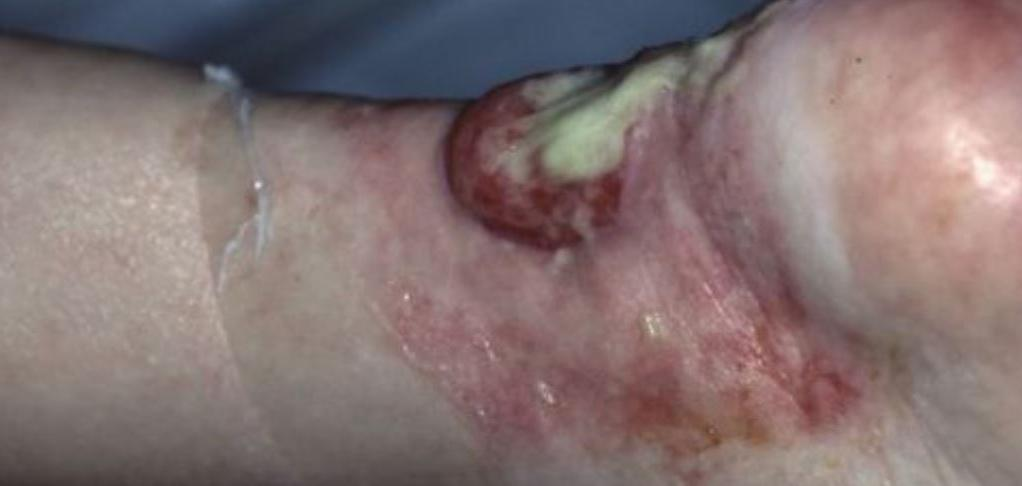Stage3: (417, 40, 667, 262)
